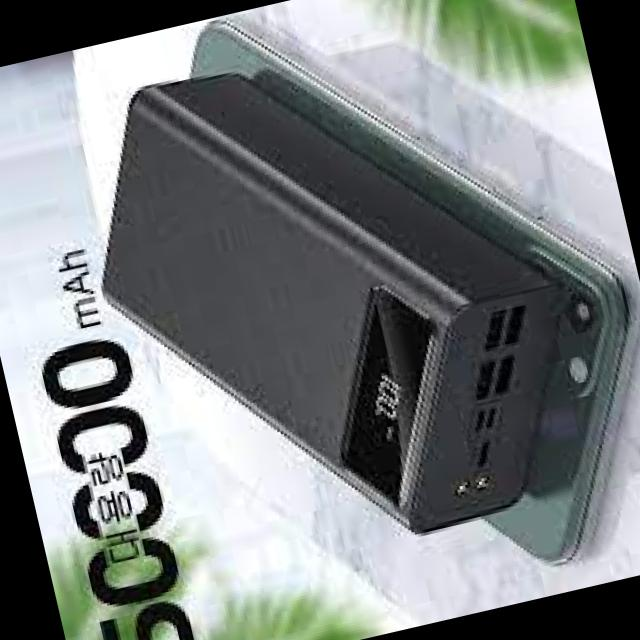power_bank: (54, 2, 598, 593)
